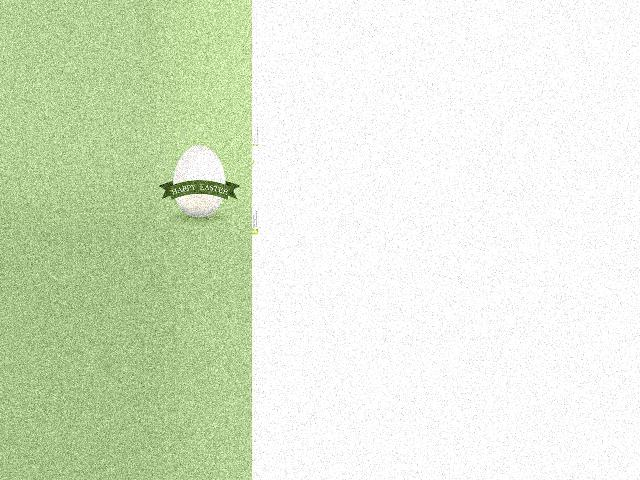egg: (174, 145, 226, 217)
